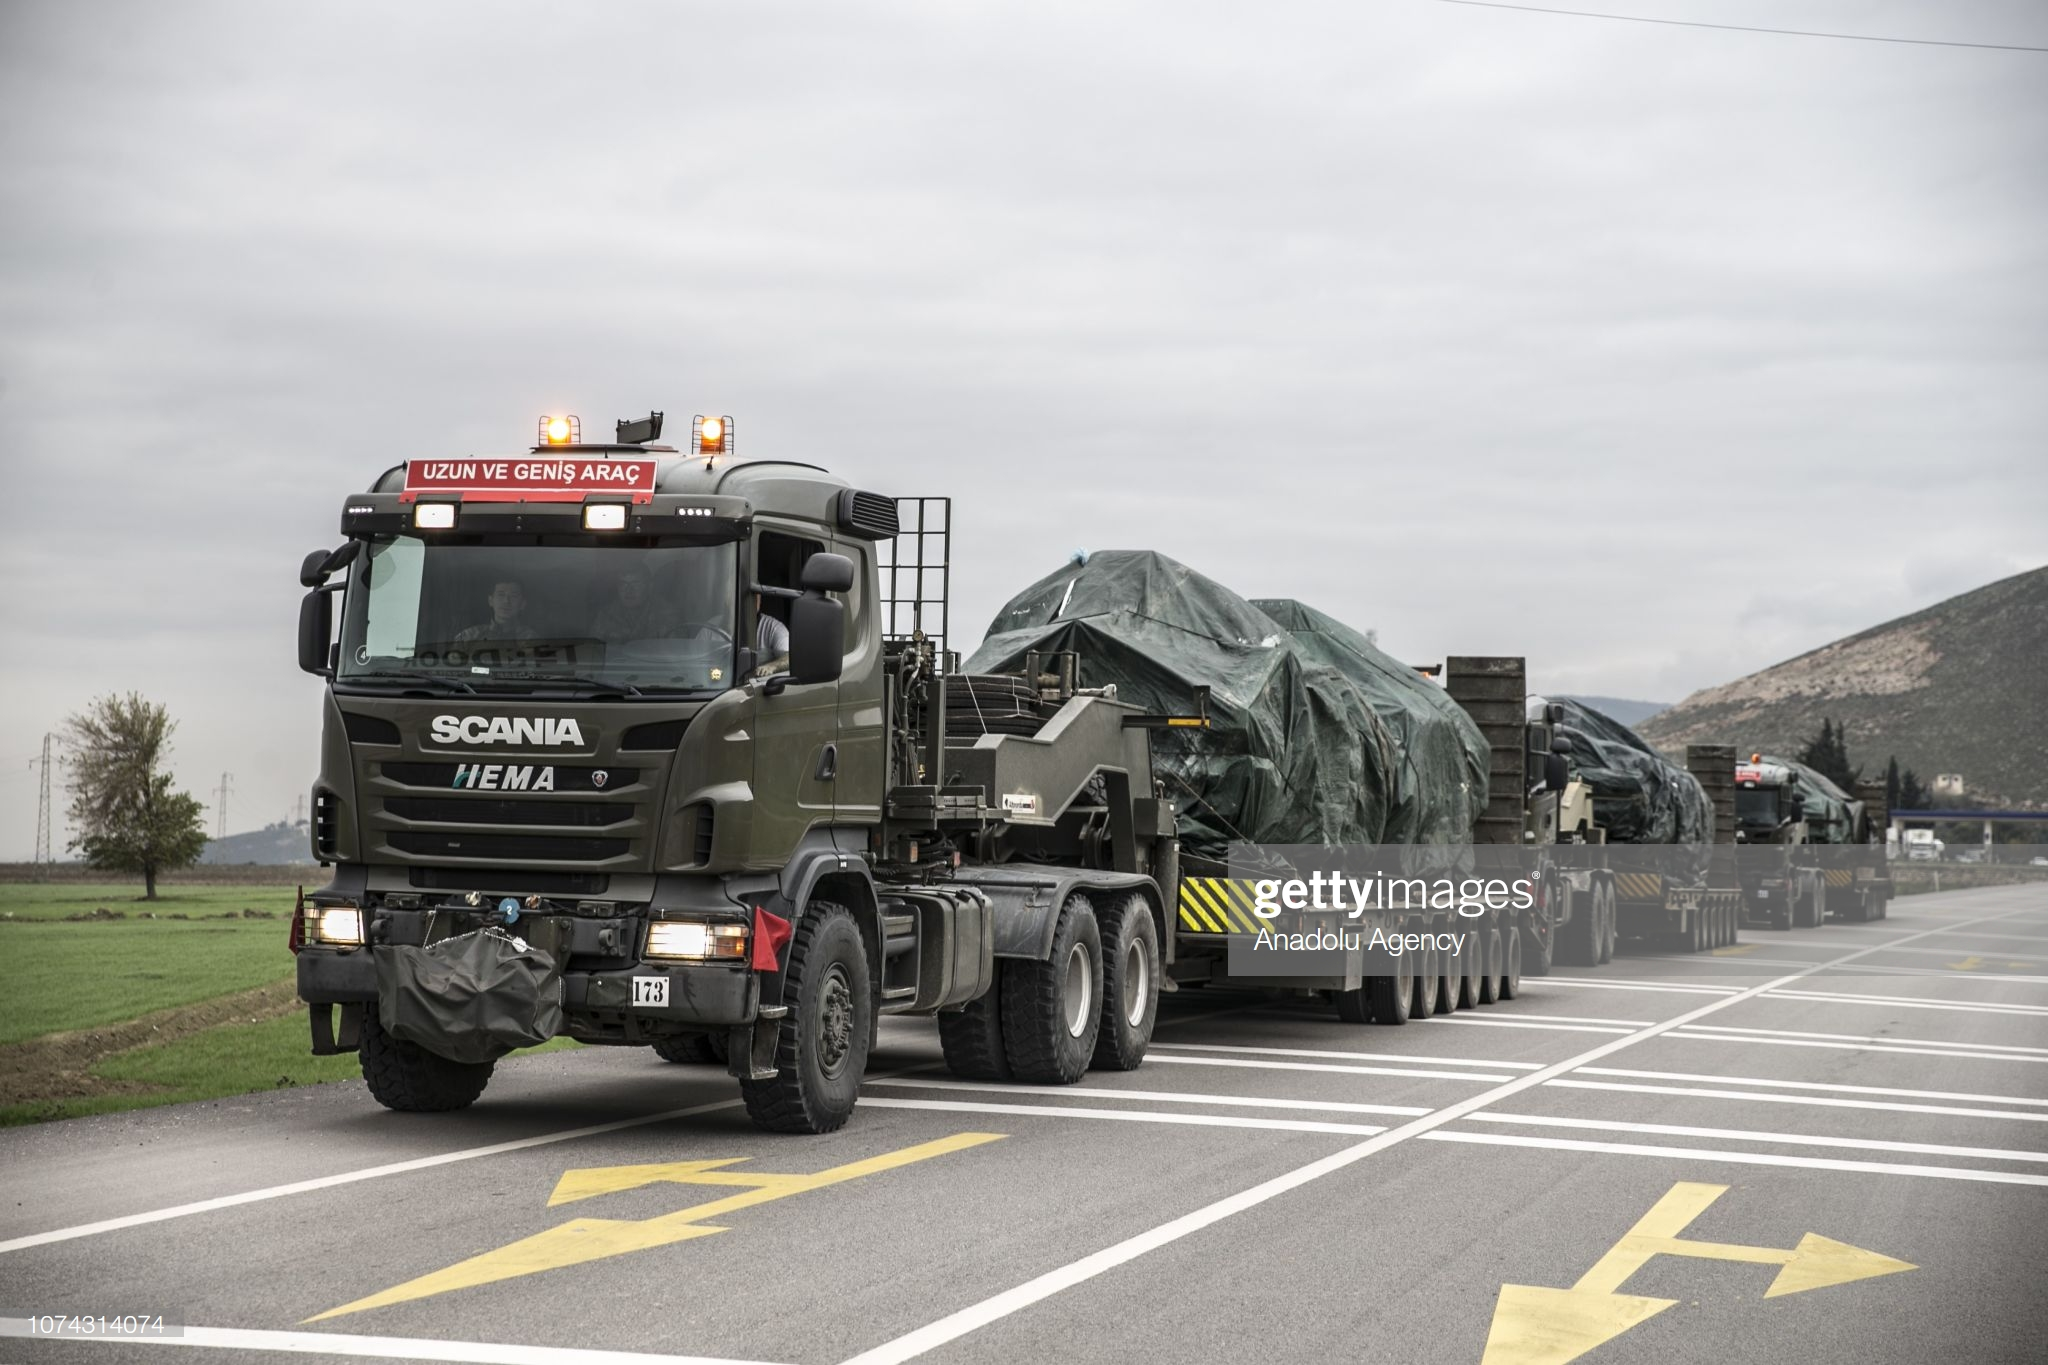camion: (315, 449, 1159, 1044)
